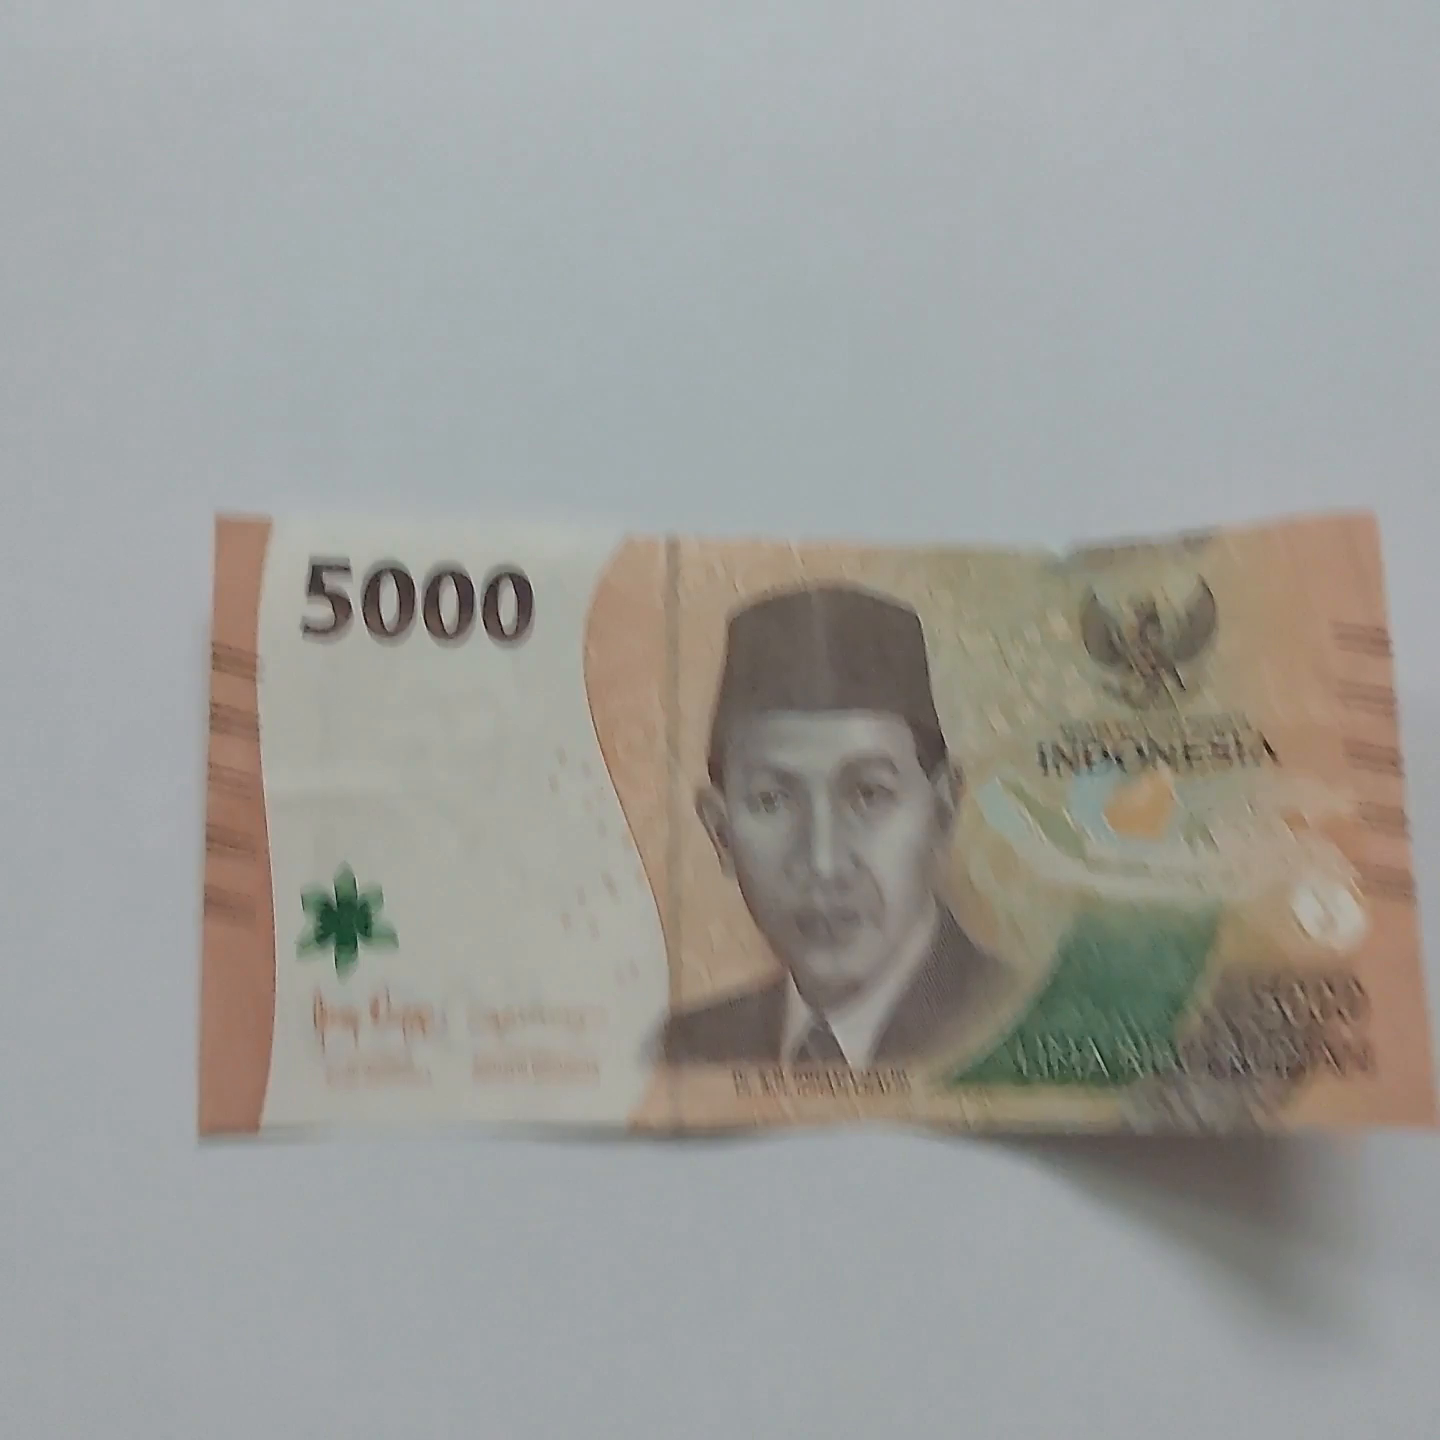5k: (160, 505, 1440, 1158)
